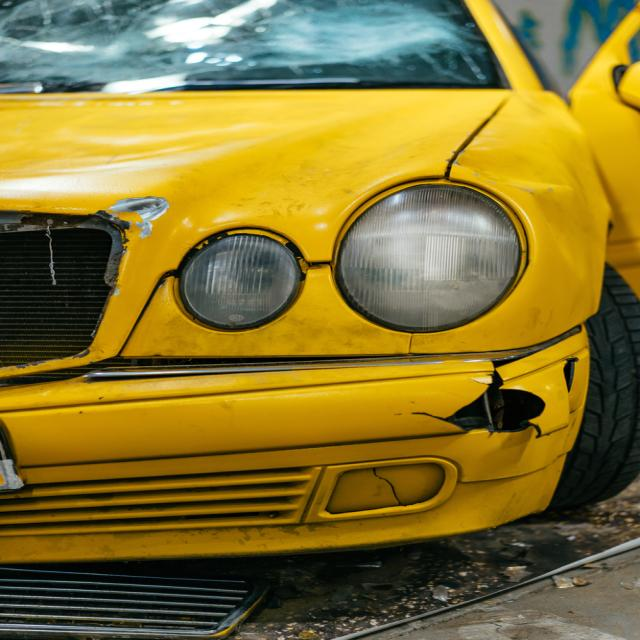crack: (409, 363, 546, 439), (372, 468, 403, 505), (562, 357, 580, 393)
dent: (460, 153, 571, 191)
glass shatter: (0, 0, 508, 87)
